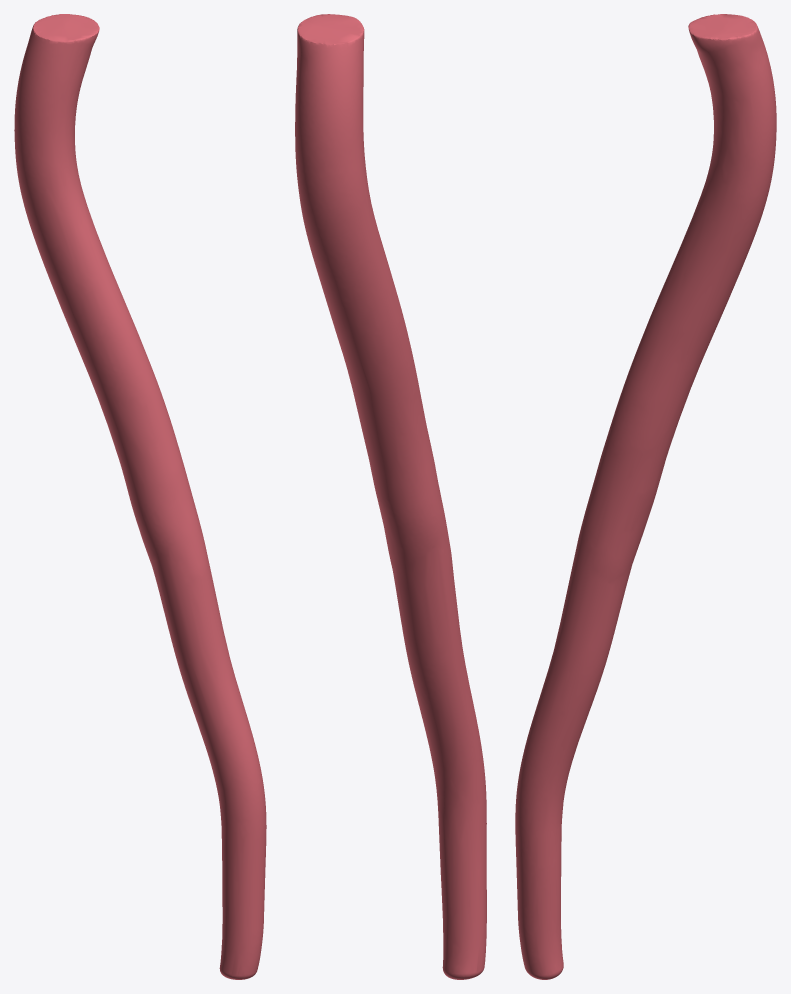
Rendered from fma3784.glb.
3 renders of one model, left to right at view 1: azimuth 90°, elevation 25°; view 2: azimuth 150°, elevation 25°; view 3: azimuth 270°, elevation 25°, orthographic. The views are drawn at different scales.
Visible parts, largest first — view 1: FMA3784; view 2: FMA3784; view 3: FMA3784.
Boxes of the visible parts, bbox=[...] form: FMA3784: bbox=[14, 14, 266, 979]; FMA3784: bbox=[295, 14, 486, 979]; FMA3784: bbox=[515, 14, 776, 979].
Size of the model in its own units: 0.0309 by 0.3433 by 0.084.
